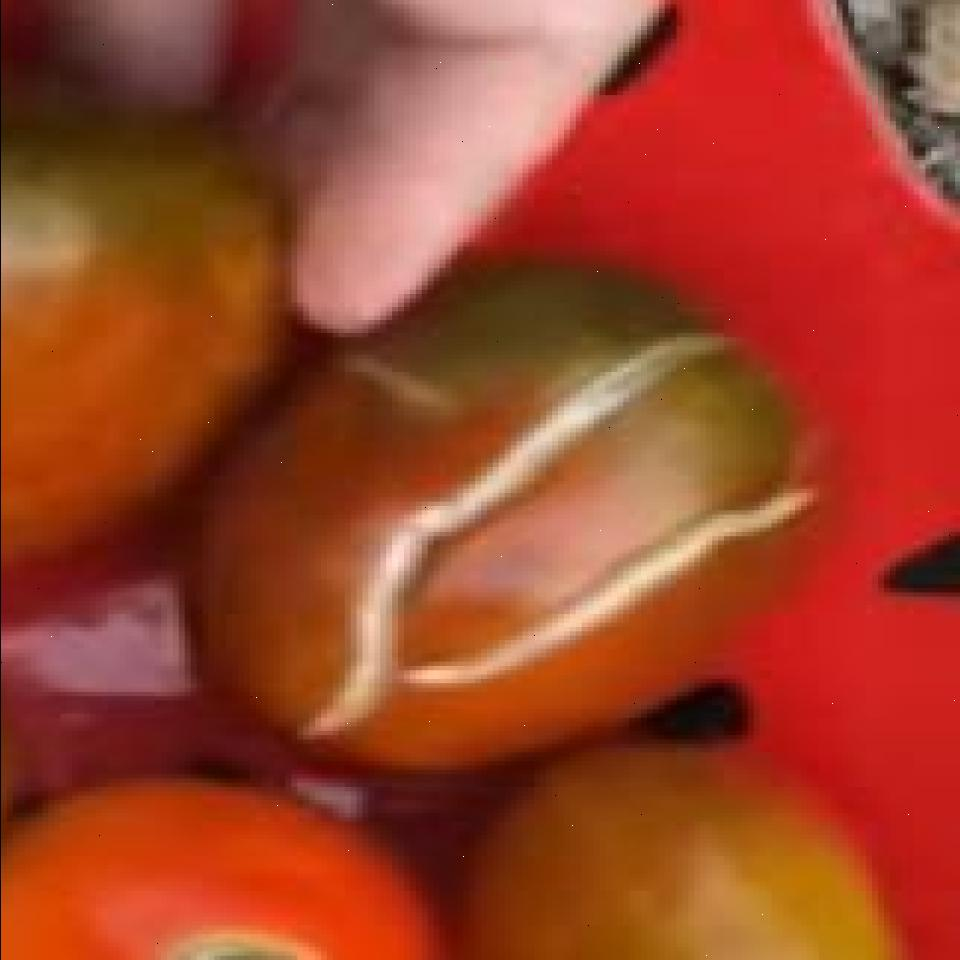Cracking: (299, 320, 786, 742), (412, 427, 840, 703)
